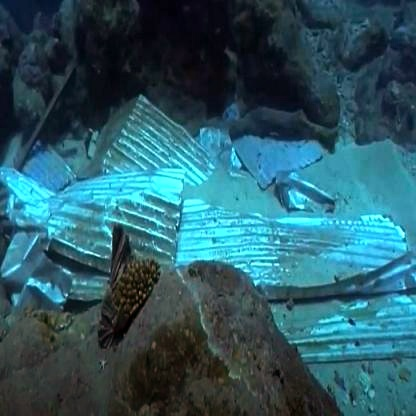metal: (191, 186, 416, 306), (10, 165, 201, 302), (90, 97, 229, 237), (268, 288, 416, 402)
